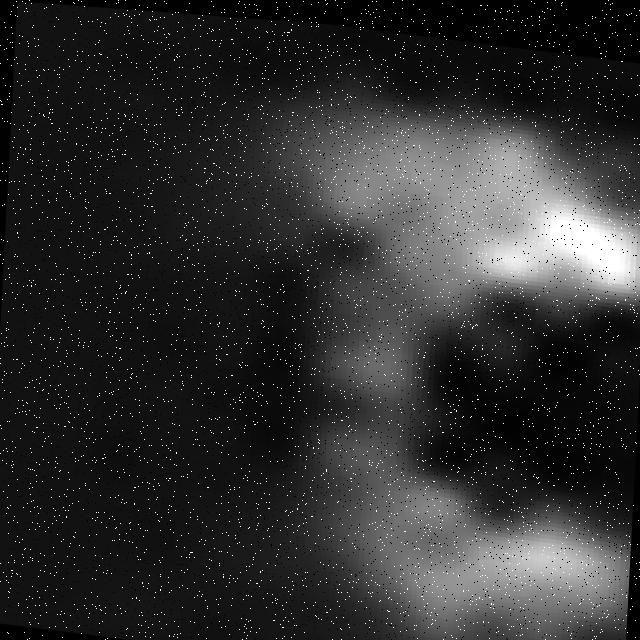person: (215, 60, 640, 419), (224, 410, 636, 640)
